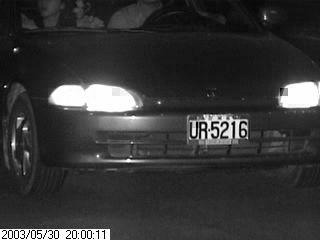plate: (186, 111, 252, 148)
